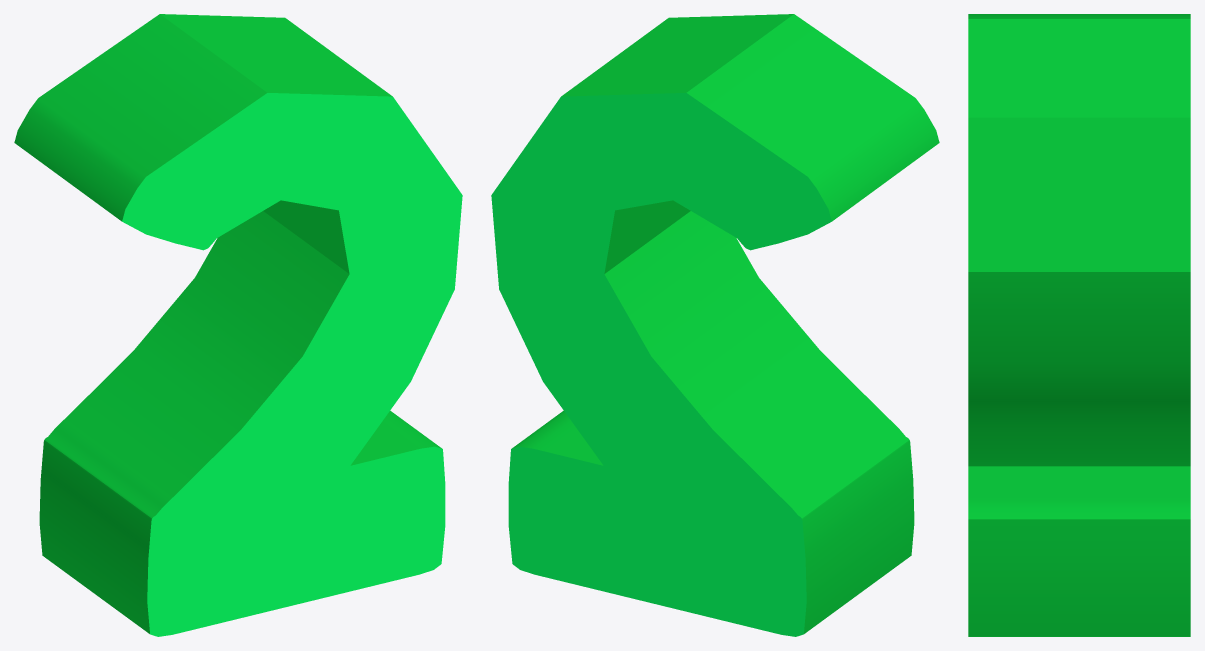
3 views of the same model, side by side, from view 1: azimuth 30°, elevation 25°; view 2: azimuth 150°, elevation 25°; view 3: azimuth 270°, elevation 25° (orthographic). The views are drawn at different scales.
Parts seen in each view (by area): view 1: 2_Zyzol_Green; view 2: 2_Zyzol_Green; view 3: 2_Zyzol_Green.
Part boxes in pixels (x1,y1,x2,y2): 2_Zyzol_Green: (14,14,462,636); 2_Zyzol_Green: (491,14,939,636); 2_Zyzol_Green: (968,14,1190,636).
Size of what is drawn, in the model's own units: 0.0821 by 0.1196 by 0.045.
Materials: 2 (2 with a texture image).
